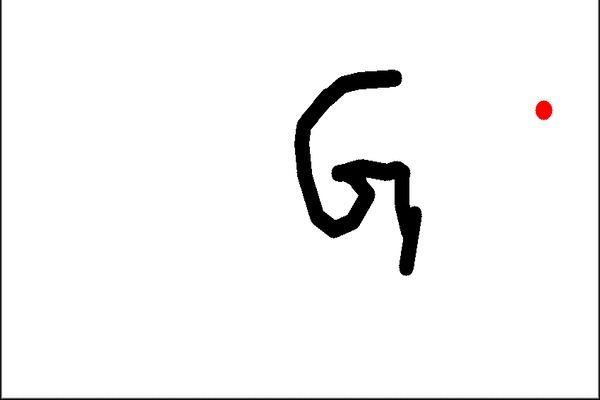G: (288, 65, 434, 278)
